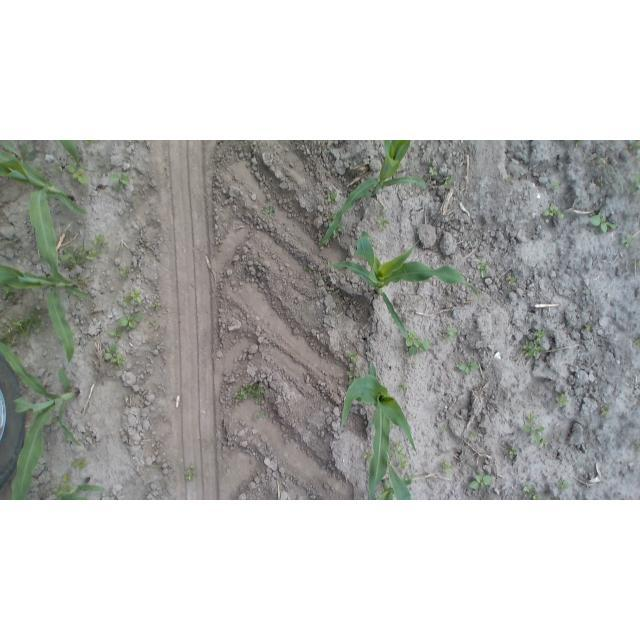Maize: (331, 231, 483, 339), (0, 184, 90, 362), (1, 341, 84, 500), (318, 141, 426, 246), (340, 361, 417, 500), (1, 151, 88, 216), (371, 457, 415, 500), (55, 141, 98, 174), (46, 479, 105, 500)
Weeds: (10, 304, 42, 340), (1, 140, 35, 164), (61, 246, 98, 268), (590, 211, 617, 235), (405, 332, 429, 354), (106, 345, 127, 370), (608, 165, 624, 193), (523, 424, 545, 444), (69, 161, 88, 183), (119, 313, 142, 331), (111, 171, 132, 190), (523, 341, 546, 358), (469, 472, 492, 489), (457, 358, 480, 374), (122, 290, 142, 307), (522, 482, 540, 500), (387, 440, 405, 458), (246, 384, 263, 403), (94, 233, 111, 252), (541, 205, 564, 219), (56, 474, 70, 494), (442, 326, 460, 341), (1, 283, 16, 301), (477, 258, 489, 278), (619, 234, 637, 247), (630, 173, 640, 193), (534, 329, 547, 344), (185, 465, 198, 480), (109, 330, 123, 343), (235, 389, 247, 404), (72, 458, 87, 470), (1, 331, 12, 347), (556, 394, 568, 407), (326, 192, 338, 204), (378, 214, 388, 228), (600, 405, 611, 417), (442, 461, 452, 474), (363, 449, 373, 462), (557, 481, 571, 490), (549, 180, 560, 191), (333, 225, 344, 236), (398, 459, 409, 470), (507, 274, 517, 286), (444, 176, 454, 188), (265, 205, 275, 217), (346, 371, 358, 381), (328, 213, 337, 226), (629, 140, 640, 150), (347, 351, 357, 362), (571, 140, 584, 148), (119, 267, 129, 277), (72, 276, 83, 285), (53, 162, 61, 174), (539, 439, 549, 448), (153, 302, 163, 311), (509, 447, 517, 458), (148, 320, 157, 329), (430, 166, 438, 175), (528, 414, 536, 423), (468, 433, 476, 442), (82, 140, 95, 145), (595, 159, 604, 166), (401, 384, 408, 393), (633, 338, 640, 347), (100, 162, 107, 170), (52, 418, 61, 424), (507, 176, 514, 183), (632, 259, 640, 265), (585, 323, 591, 331), (443, 425, 449, 432), (306, 267, 312, 273), (259, 411, 265, 417), (347, 381, 354, 386), (636, 155, 640, 163), (583, 290, 589, 295), (1, 324, 6, 329), (35, 168, 40, 173), (423, 187, 428, 191), (324, 277, 328, 282), (413, 362, 418, 366), (638, 443, 640, 451), (333, 292, 337, 295), (546, 498, 552, 500), (313, 268, 316, 271), (328, 291, 331, 294)
